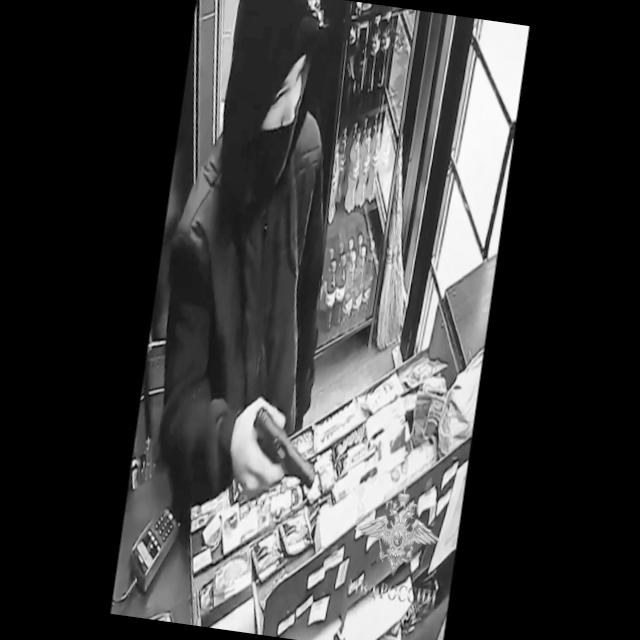gun: (229, 378, 330, 498)
person with a gun: (146, 12, 382, 516)
